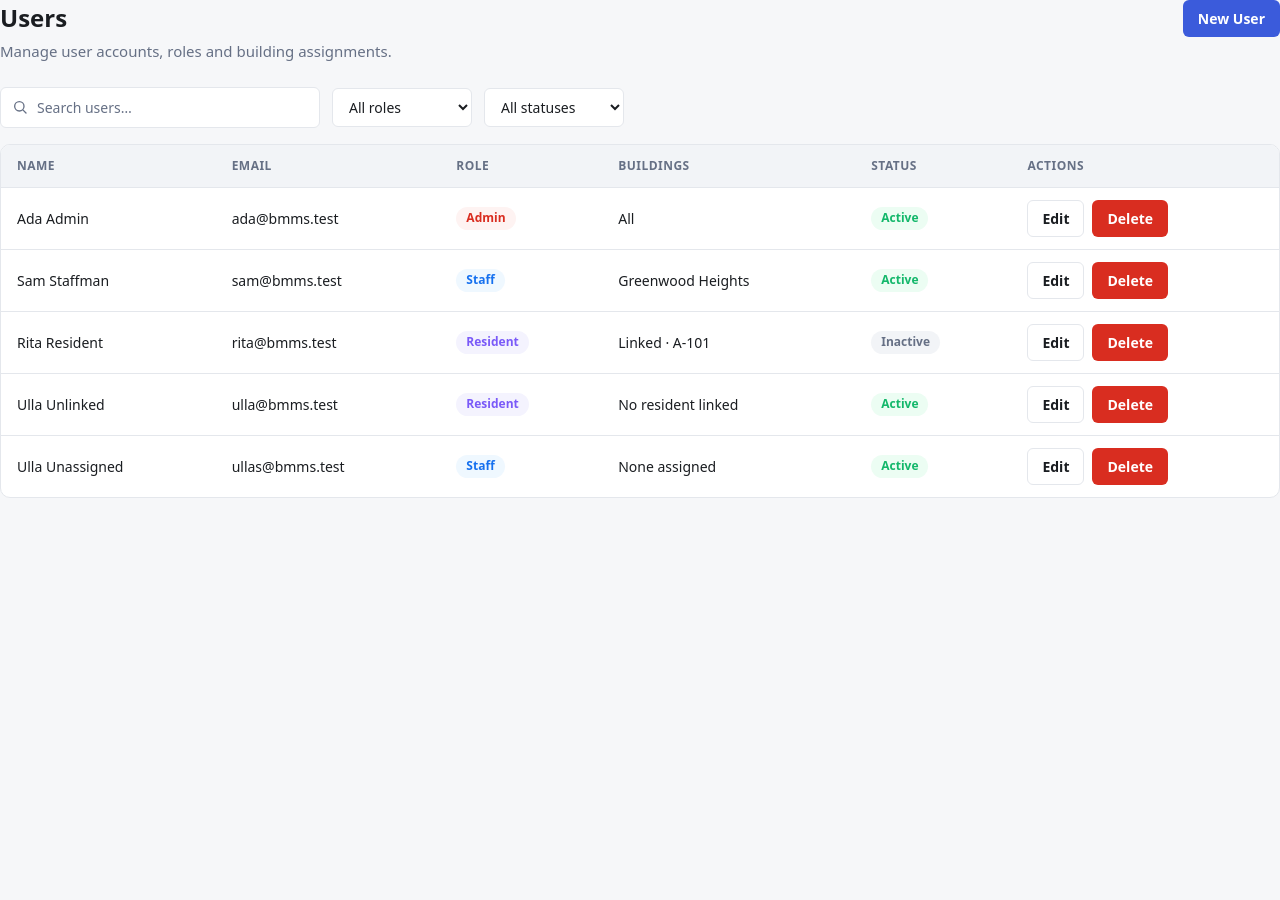
Test: UsersPage admin user management › opens the New User modal with password field
This screenshot has width=1280, height=900.
expect the text "Ada Admin" is shown: met, box [1, 187, 216, 249]
Click the button "New User": point(1231, 18) [1183, 0, 1279, 37]
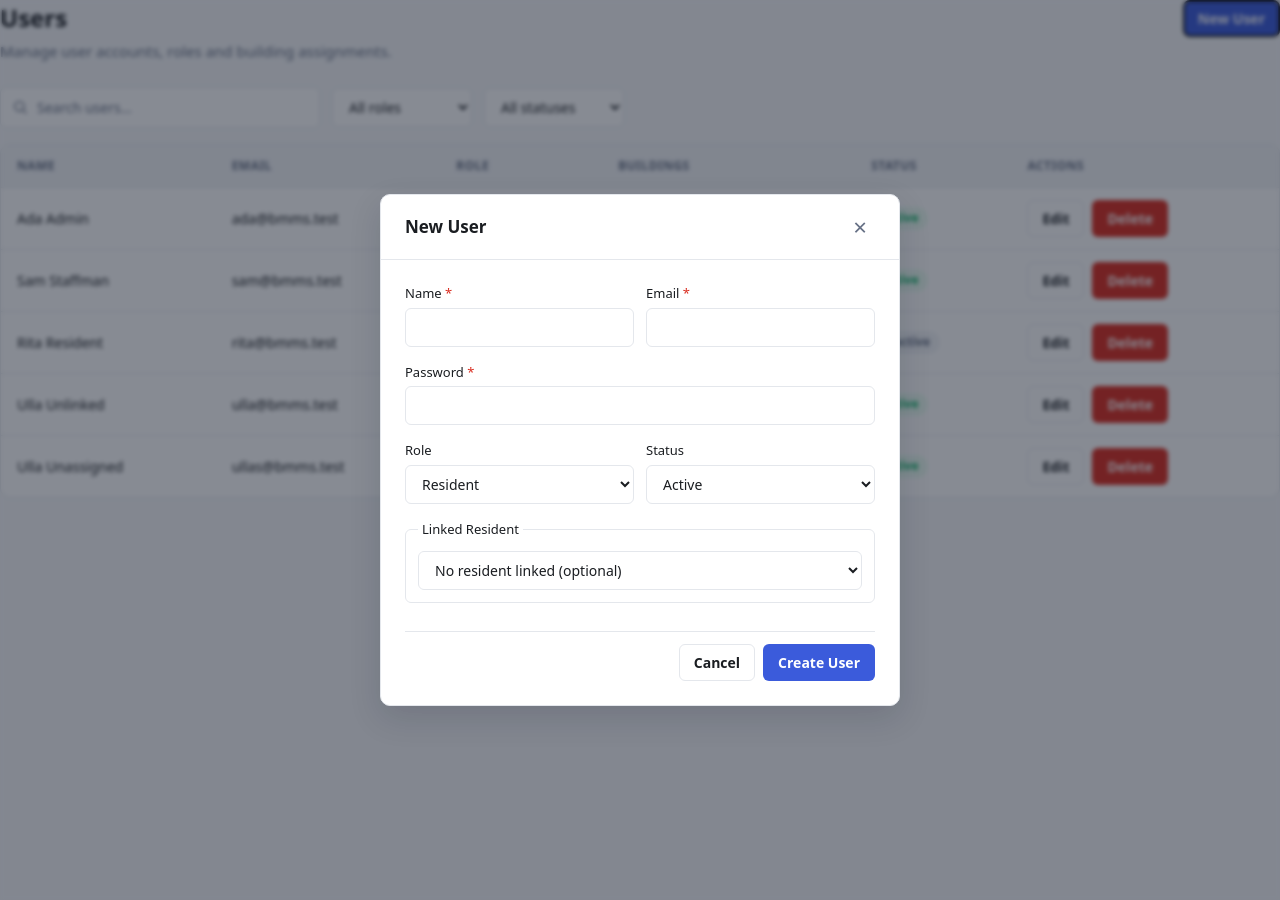
expect the dialog "New User" is shown: met, box [380, 194, 900, 706]
expect the password field labelled "Password *" is shown: met, box [405, 386, 875, 425]
